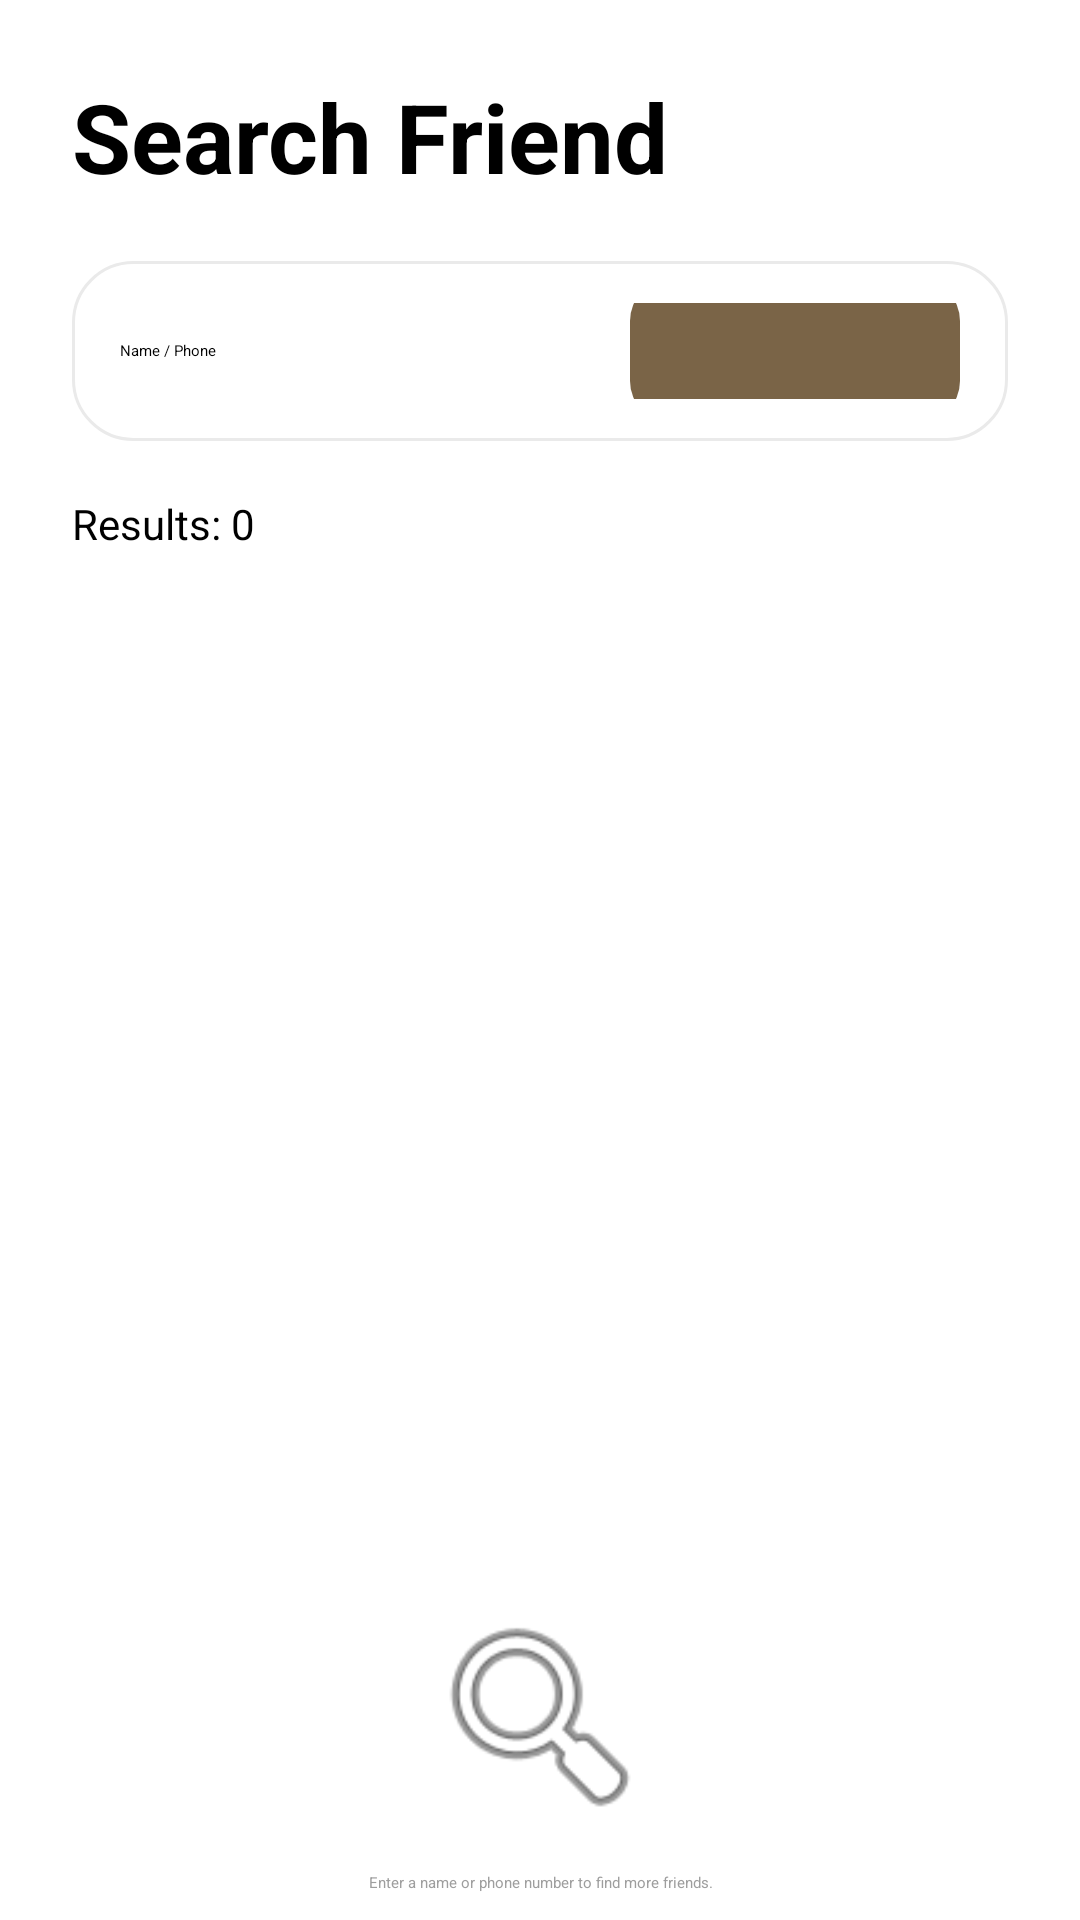

Point at icon controls on the screen. Image size 1080 × 1920, points as point (x, y).
search: point (540, 1717)
